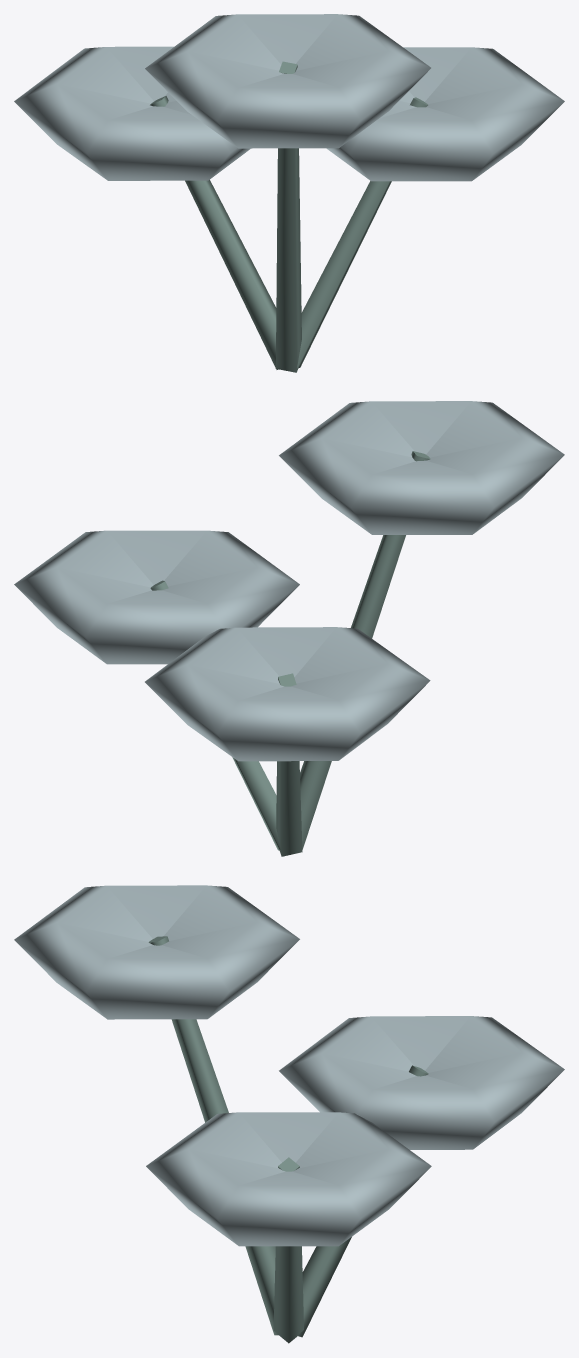
Rendered from plant-snowBell.glb.
3 views of the same model, one above another, from view 1: azimuth 30°, elevation 25°; view 2: azimuth 150°, elevation 25°; view 3: azimuth 270°, elevation 25° (orthographic).
Parts seen in each view (by area): view 1: plant-snowBell; view 2: plant-snowBell; view 3: plant-snowBell.
Boxes of the visible parts, bbox=[...] form: plant-snowBell: bbox=[14, 14, 564, 372]; plant-snowBell: bbox=[14, 401, 564, 856]; plant-snowBell: bbox=[14, 885, 564, 1343].
Size of the model in its own units: 0.501 by 0.4433 by 0.5776.
